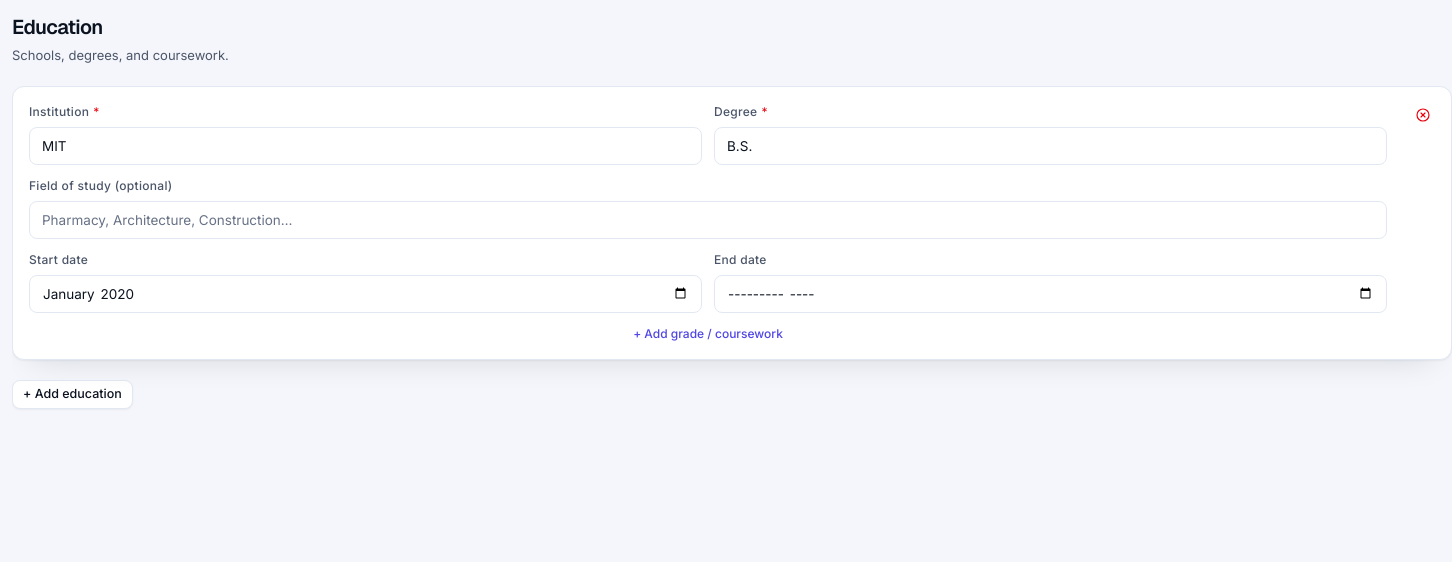
Test: EducationForm › keeps GPA/coursework collapsed until asked for
Expected: the field with placeholder "3.8 / 4.0" is not shown
Click the button "+ Add grade / coursework": (708, 334) [29,325,1387,343]
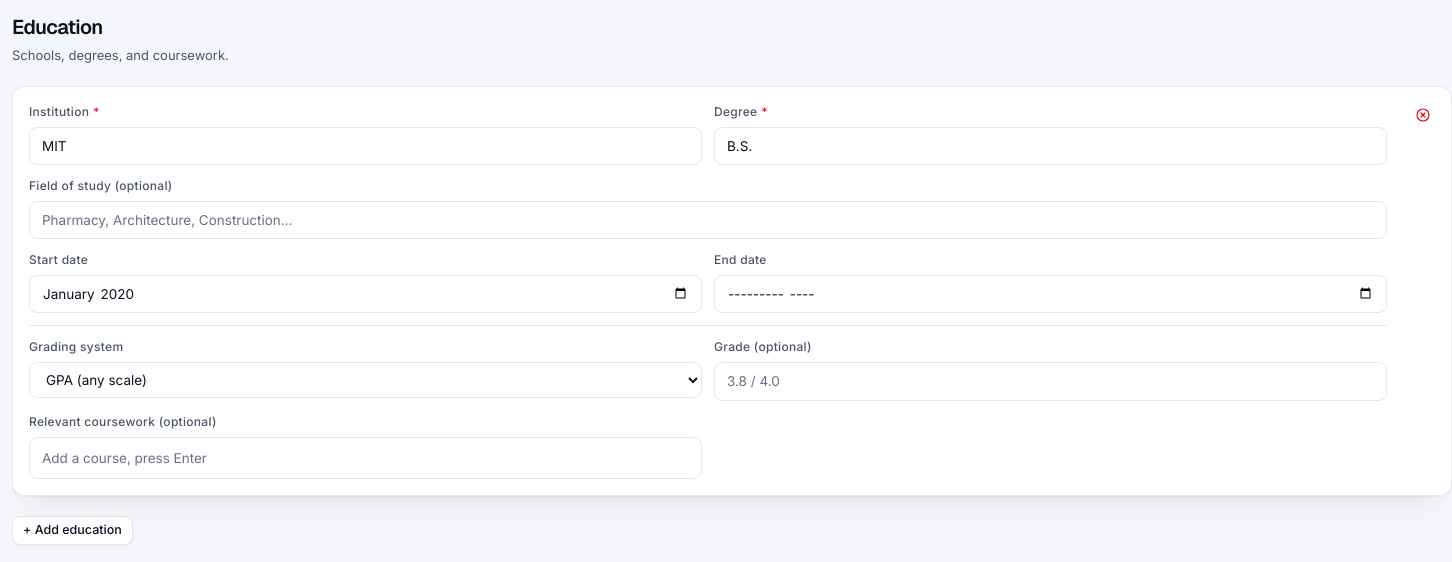
Expected: the field with placeholder "3.8 / 4.0" is shown, [714,362,1387,401]
